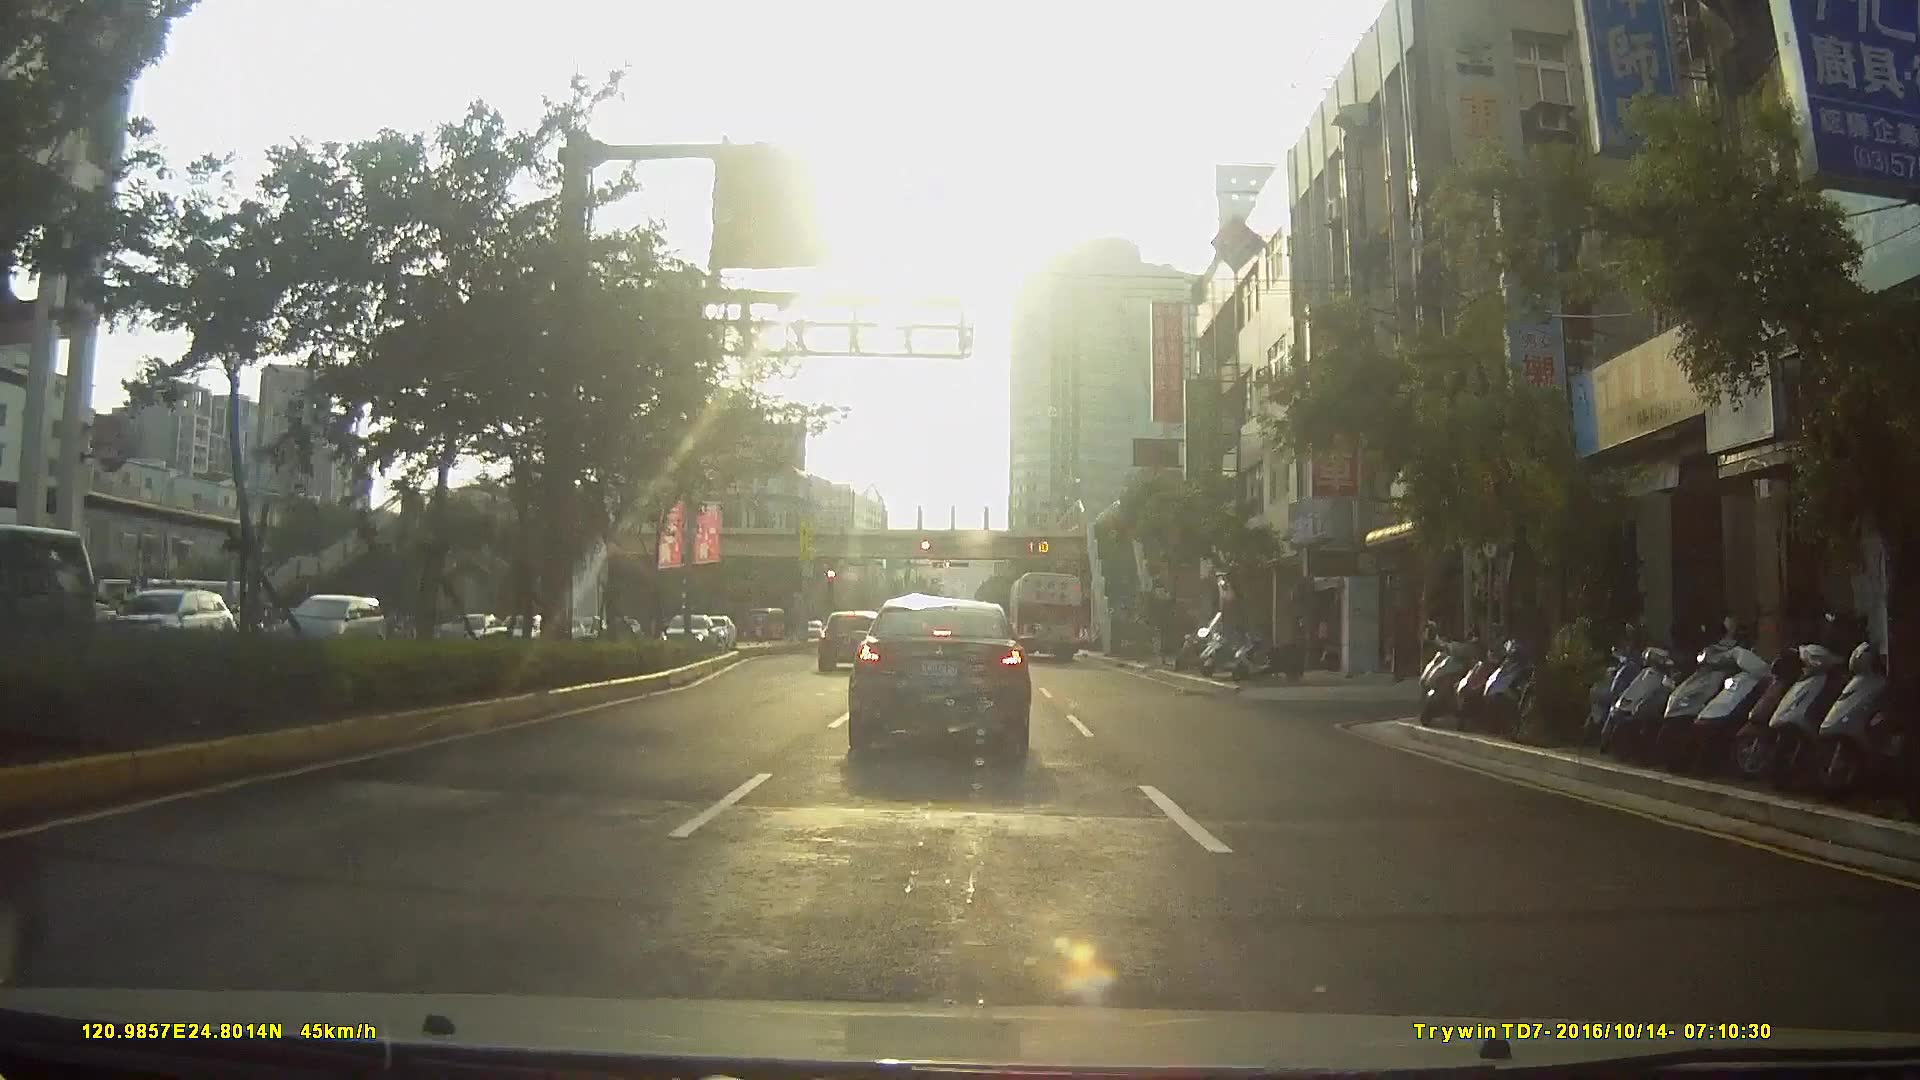vehicle: (845, 593, 1031, 757), (3, 524, 128, 684), (1006, 567, 1085, 662), (272, 592, 382, 655), (816, 607, 885, 675), (655, 611, 717, 653)
